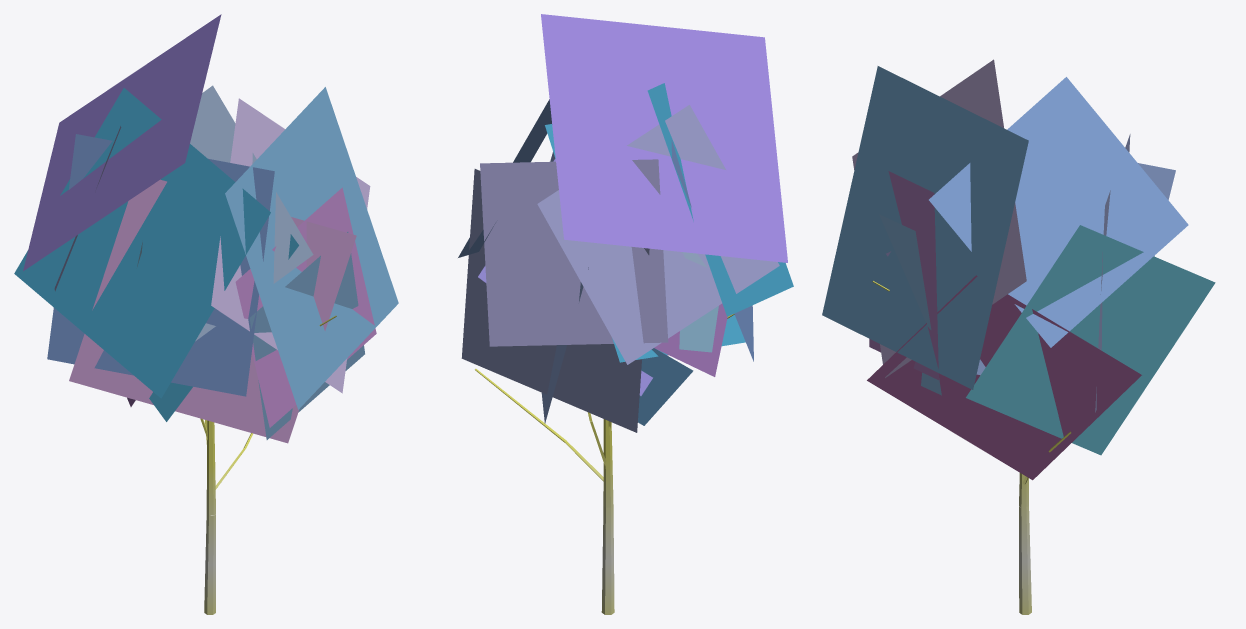
Rendered from tree_birch_3.glb.
The picture shows the model from 3 angles, left to right: view 1: azimuth 30°, elevation 25°; view 2: azimuth 150°, elevation 25°; view 3: azimuth 270°, elevation 25°; orthographic projection. The views are drawn at different scales.
Visible parts, largest first — view 1: tree_birch_3; view 2: tree_birch_3; view 3: tree_birch_3.
Part boxes in pixels (x1,y1,x2,y2): tree_birch_3: (14, 14, 398, 614); tree_birch_3: (458, 14, 793, 614); tree_birch_3: (822, 59, 1215, 614).
Bounding box in the file's own units: 7.8 × 12.44 × 7.54.
